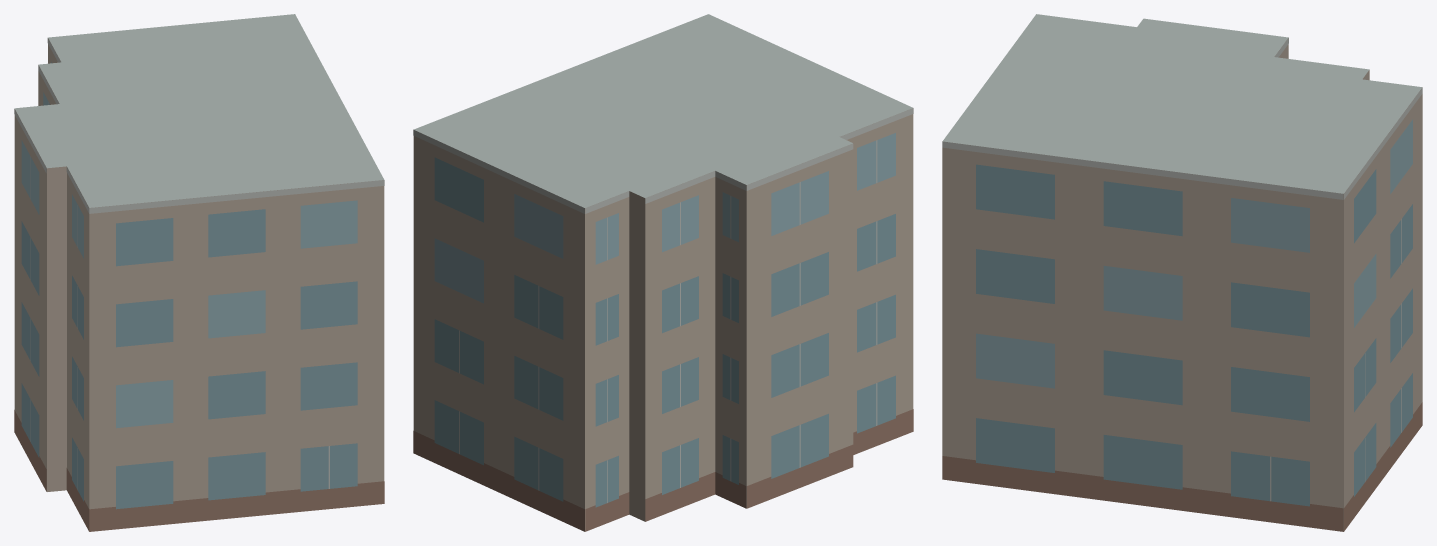
The model's file is survey-upis-32838370.glb.
3 renders of one model, left to right at view 1: azimuth 30°, elevation 25°; view 2: azimuth 150°, elevation 25°; view 3: azimuth 270°, elevation 25°, orthographic. The views are drawn at different scales.
Parts seen in each view (by area): view 1: survey-upis-32838370.tmp; view 2: survey-upis-32838370.tmp; view 3: survey-upis-32838370.tmp.
Part boxes in pixels (bbox=[...]): survey-upis-32838370.tmp: bbox=[14, 14, 384, 531]; survey-upis-32838370.tmp: bbox=[413, 14, 913, 531]; survey-upis-32838370.tmp: bbox=[942, 14, 1422, 531].
Size of the model in its own units: 15.18 by 13.3 by 17.13.
